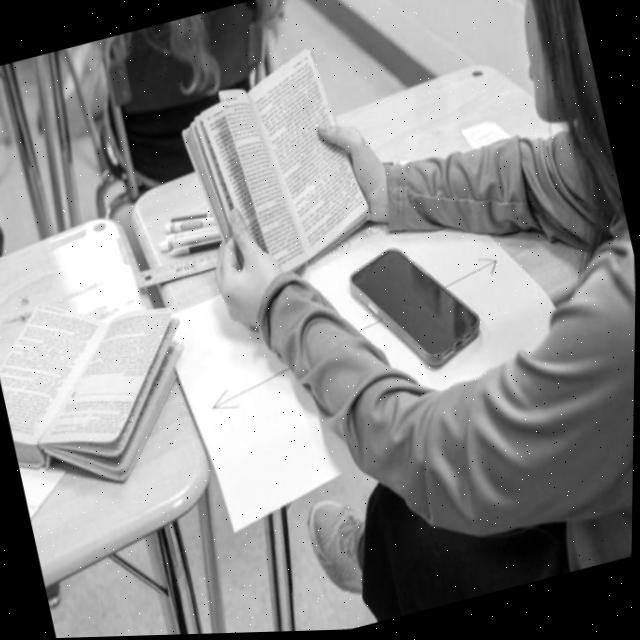phone: (327, 219, 507, 399)
